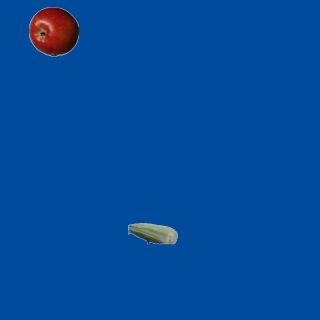Apple Braeburn: (28, 6, 78, 56)
Corn Husk: (127, 208, 177, 258)
